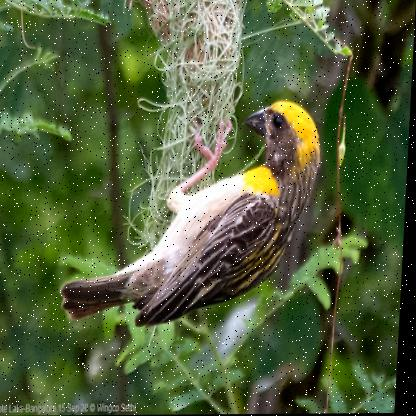Burung: (61, 100, 324, 328)
